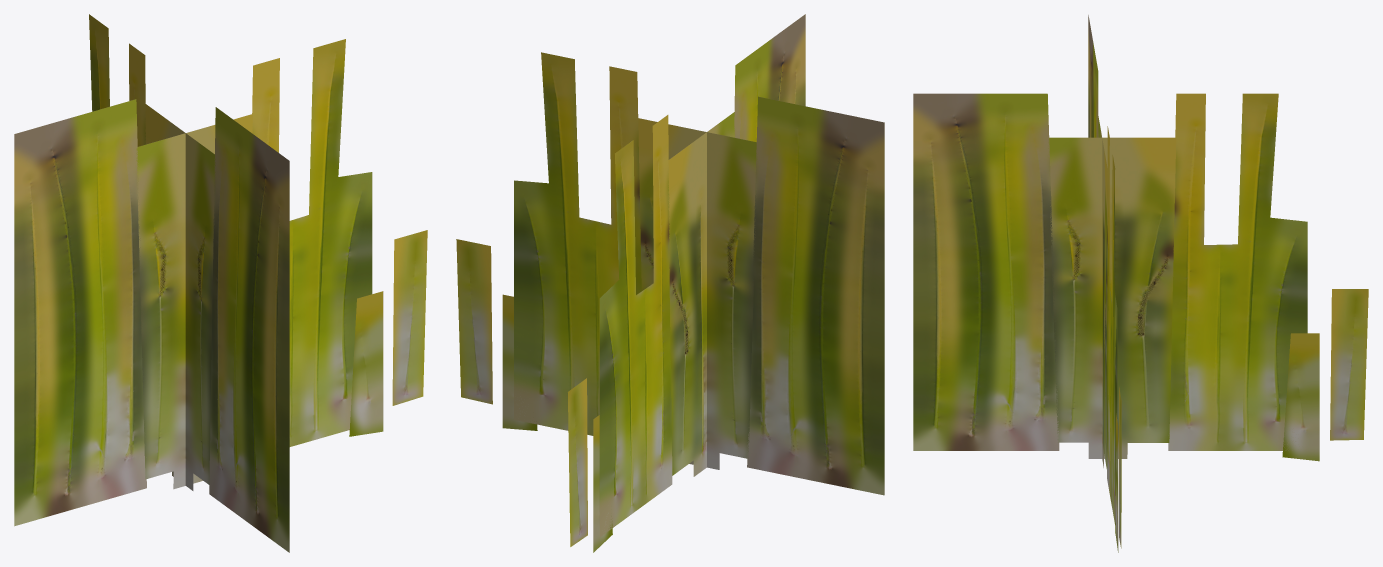
Rendered from GRass.glb.
3 views of the same model, side by side, from view 1: azimuth 30°, elevation 25°; view 2: azimuth 150°, elevation 25°; view 3: azimuth 270°, elevation 25° (orthographic). The views are drawn at different scales.
Parts seen in each view (by area): view 1: Plane.015, Plane.017, Plane.019, Plane.016, Plane.024, Plane.018, Plane.002, Plane.004, Plane.026, Plane.006, Plane.003, Plane.005 (+9 smaller); view 2: Plane.015, Plane.017, Plane.019, Plane.016, Plane.026, Plane.018, Plane.024, Plane.008, Plane.009, Plane.011, Plane.013, Plane.027 (+13 smaller); view 3: Plane.002, Plane.004, Plane.008, Plane.006, Plane.009, Plane.003, Plane.011, Plane.005, Plane.007, Plane.013, Plane.010, Plane.014 (+7 smaller).
Boxes of the visible parts, <box> form: Plane.015: <box>14,129,59,526</box>; Plane.017: <box>54,106,121,505</box>; Plane.019: <box>136,136,176,479</box>; Plane.016: <box>30,123,87,513</box>; Plane.024: <box>302,39,345,443</box>; Plane.018: <box>112,99,146,495</box>; Plane.002: <box>262,154,289,552</box>; Plane.004: <box>224,117,265,520</box>; Plane.026: <box>324,172,372,437</box>; Plane.006: <box>191,138,215,484</box>; Plane.003: <box>245,143,279,533</box>; Plane.005: <box>209,107,229,504</box>; Plane.015: <box>837,119,884,495</box>; Plane.017: <box>773,102,843,480</box>; Plane.019: <box>716,134,757,458</box>; Plane.016: <box>808,114,867,486</box>; Plane.026: <box>514,180,563,429</box>; Plane.018: <box>747,96,782,472</box>; Plane.024: <box>541,52,584,430</box>; Plane.008: <box>668,144,693,475</box>; Plane.009: <box>652,115,672,496</box>; Plane.011: <box>615,140,639,516</box>; Plane.013: <box>599,280,627,537</box>; Plane.027: <box>456,239,492,404</box>; Plane.002: <box>913,93,963,450</box>; Plane.004: <box>957,93,1031,450</box>; Plane.008: <box>1127,137,1176,442</box>; Plane.006: <box>1048,137,1091,442</box>; Plane.009: <box>1168,93,1205,450</box>; Plane.003: <box>931,93,993,450</box>; Plane.011: <box>1231,93,1278,450</box>; Plane.005: <box>1021,93,1059,450</box>; Plane.007: <box>1088,137,1132,458</box>; Plane.013: <box>1254,217,1307,450</box>; Plane.010: <box>1201,244,1237,450</box>; Plane.014: <box>1330,289,1368,440</box>.
Size of the model in its own units: 2.3 by 2.06 by 2.31.
Materials: 1 (1 with a texture image).
